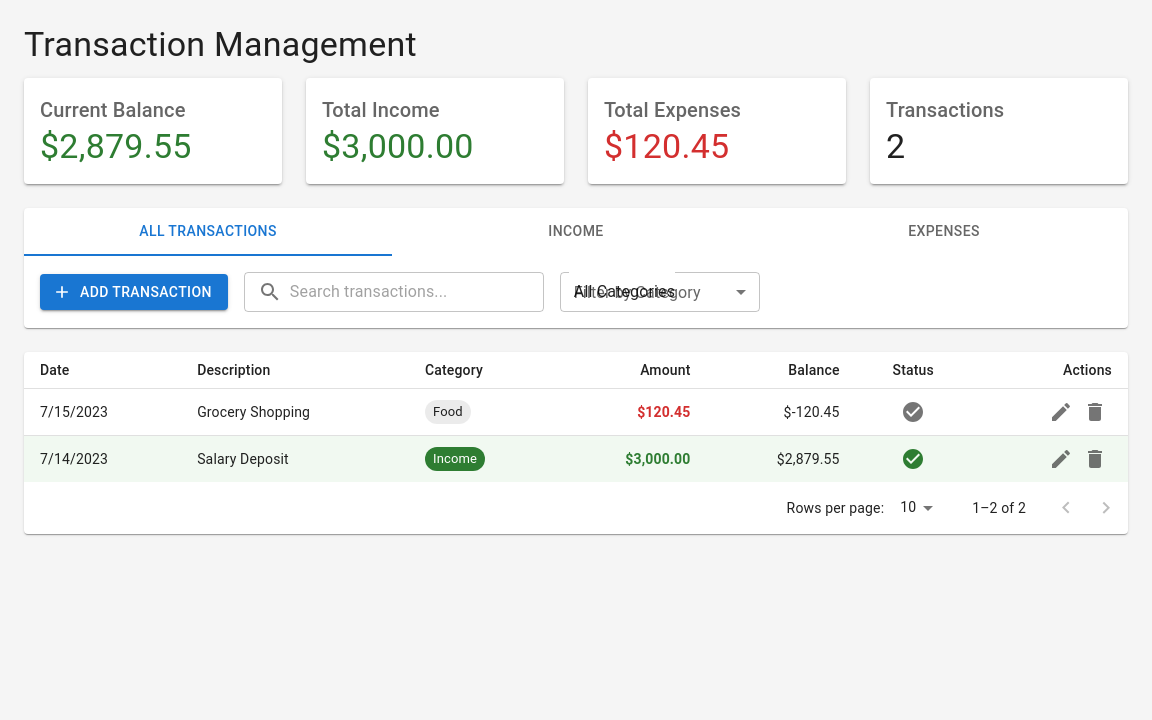
Test: Transactions Component › opens add transaction dialog when button is clicked
Expected: the text "Grocery Shopping" is shown, left=181, top=388, right=409, bottom=435
Step 1. Click the button "Add Transaction" → x=134, y=292, box left=40, top=274, right=228, bottom=310
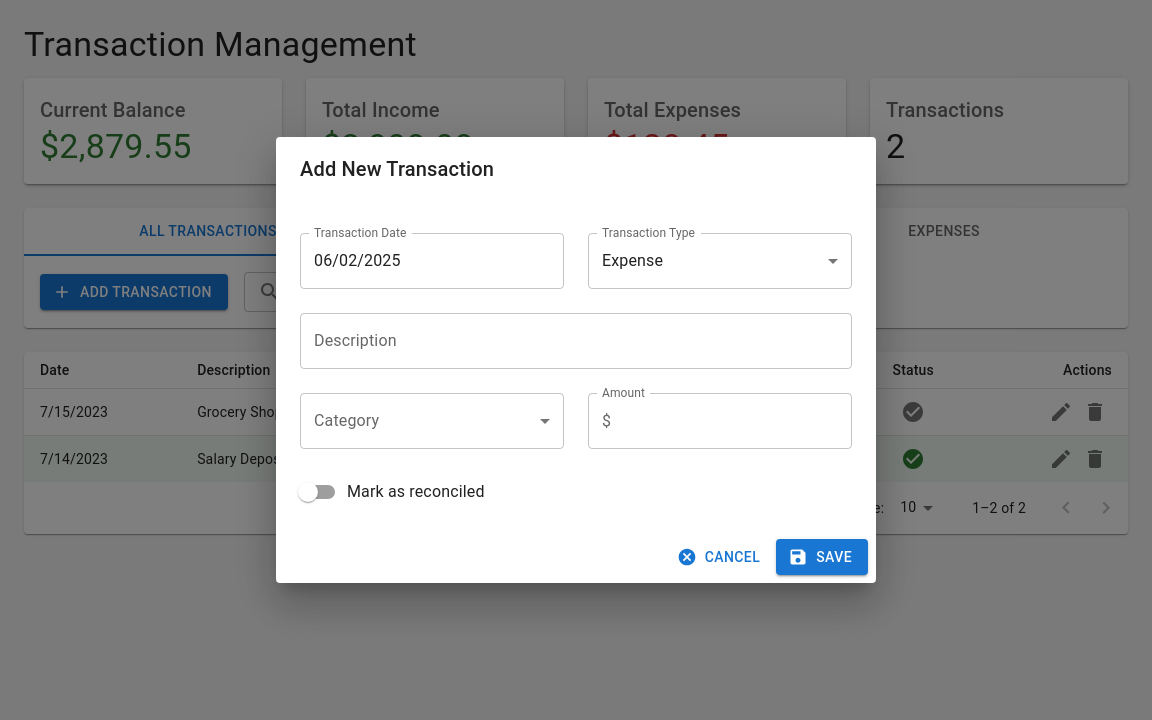
Result: the heading "Add New Transaction" is shown at left=300, top=157, right=494, bottom=181
Result: the field labelled "Description" is shown at left=300, top=313, right=852, bottom=369
